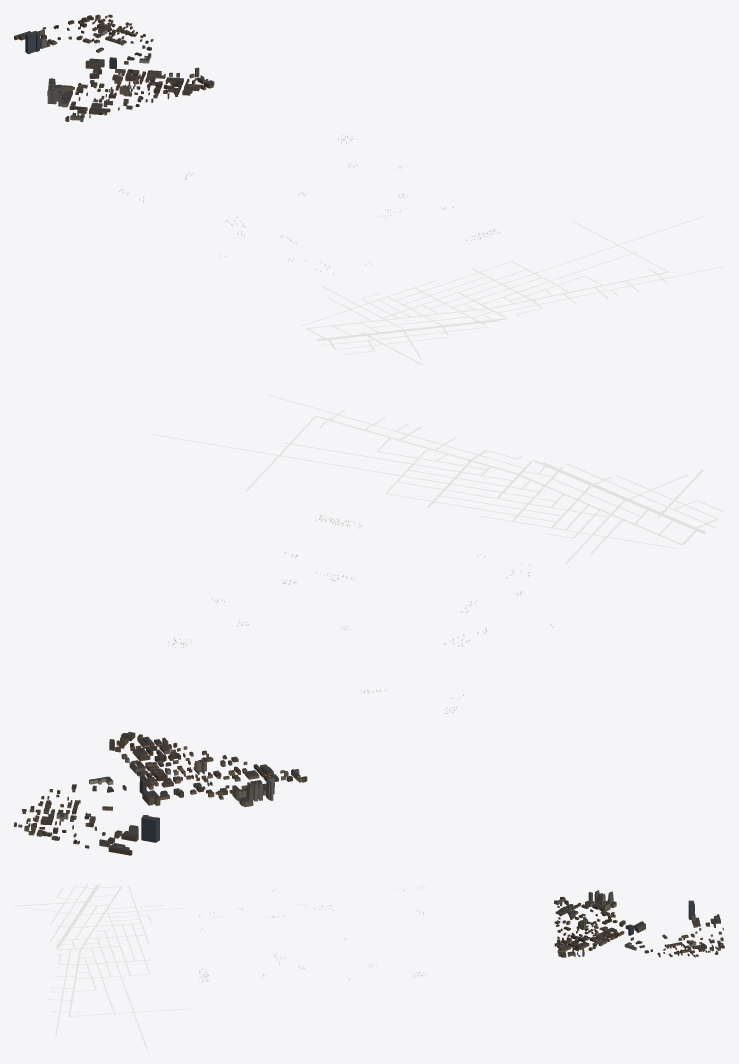
The model's file is manhattan_+00_-05.glb.
The picture shows the model from 3 angles, top to bottom: view 1: azimuth 30°, elevation 25°; view 2: azimuth 150°, elevation 25°; view 3: azimuth 270°, elevation 25°; orthographic projection. The views are drawn at different scales.
Visible parts, largest first — view 1: ROAD_+00_-05, BLD_lowrise_+00_-05, BLD_midrise_+00_-05, BLD_towers_+00_-05; view 2: ROAD_+00_-05, BLD_lowrise_+00_-05, BLD_midrise_+00_-05, BLD_towers_+00_-05; view 3: ROAD_+00_-05, BLD_lowrise_+00_-05, BLD_midrise_+00_-05, BLD_towers_+00_-05, TREE_+00_-05.
Part boxes in pixels (x1,y1,x2,y2): ROAD_+00_-05: (301,216,724,365); BLD_lowrise_+00_-05: (14,14,214,121); BLD_midrise_+00_-05: (38,28,199,121); BLD_towers_+00_-05: (25,31,62,106); ROAD_+00_-05: (152,394,724,564); BLD_lowrise_+00_-05: (14,732,307,855); BLD_midrise_+00_-05: (56,739,300,847); BLD_towers_+00_-05: (141,776,274,842); ROAD_+00_-05: (14,884,191,1049); BLD_lowrise_+00_-05: (554,896,724,957); BLD_midrise_+00_-05: (554,898,715,956); BLD_towers_+00_-05: (588,890,694,919); TREE_+00_-05: (199,885,426,982).
Size of the model in its own units: 3280 by 136 by 5953.
